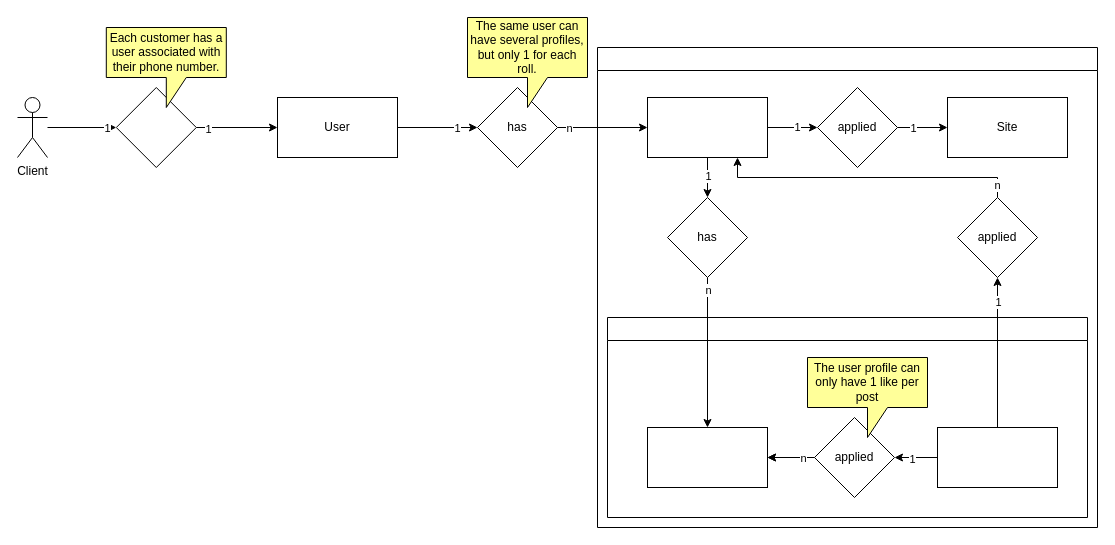
The diagram is 1115 pixels wide and 545 high, and some of its shapes have lost their labels. The box of each missing label's shape, as (x1, y1, x2, y2) in pixels:
associated: (115, 86, 196, 168)
Like: (936, 426, 1058, 488)
Post: (646, 426, 768, 488)
roll: (596, 46, 1098, 528)
Timeline: (606, 316, 1088, 518)
UserProfile: (646, 96, 768, 158)
